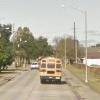Bus: (37, 53, 66, 88)
